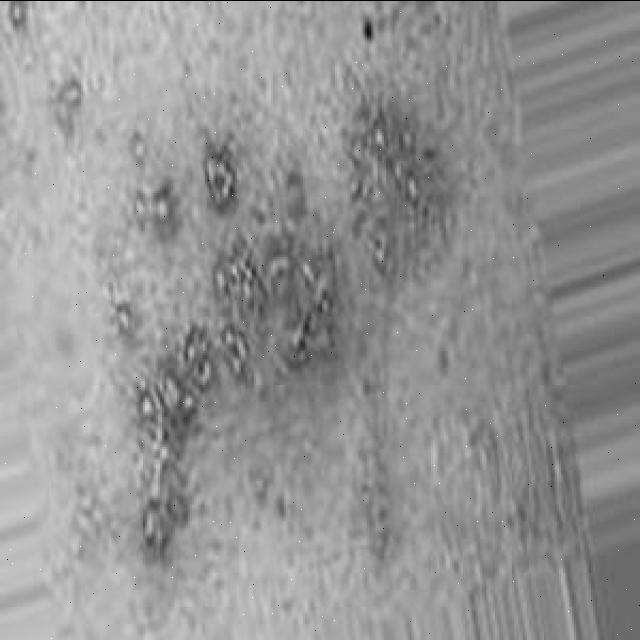Shingles: (136, 147, 338, 565), (344, 95, 450, 274)
